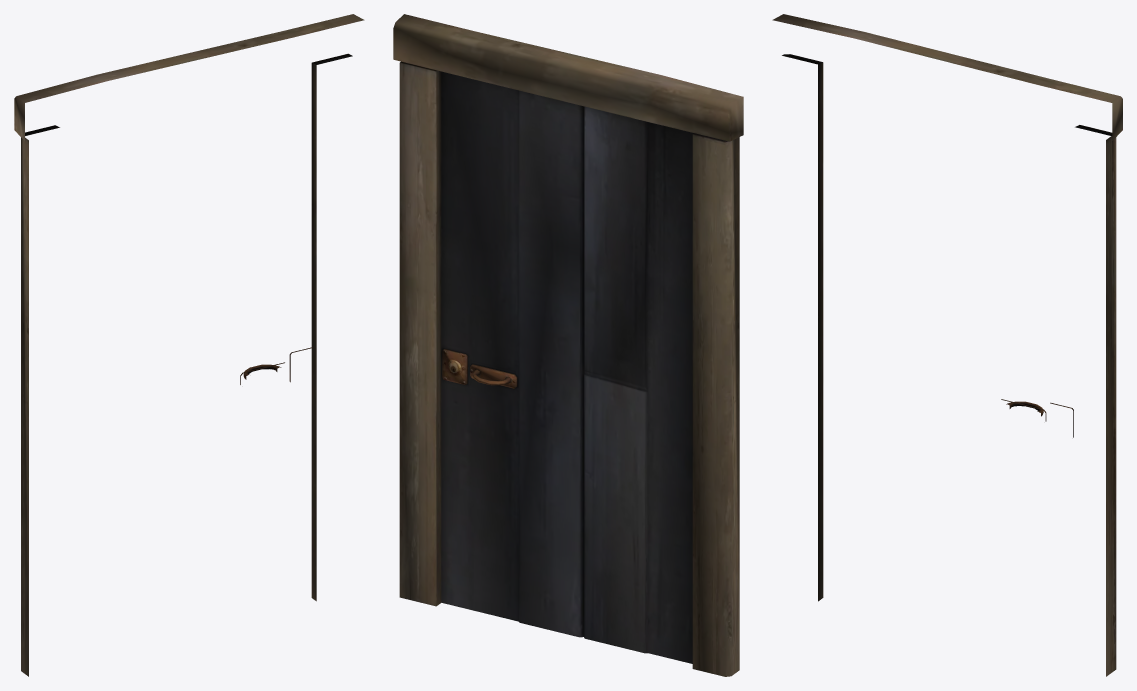
3 views of the same model, side by side, from view 1: azimuth 30°, elevation 25°; view 2: azimuth 150°, elevation 25°; view 3: azimuth 330°, elevation 25° (orthographic).
Parts seen in each view (by area): view 1: body0_model0_lod0_mesh0; view 2: body0_model0_lod0_mesh0; view 3: body0_model0_lod0_mesh0.
Boxes of the visible parts, box(x1,y1,x2,y2) form: body0_model0_lod0_mesh0: box(14, 14, 364, 676); body0_model0_lod0_mesh0: box(393, 14, 743, 676); body0_model0_lod0_mesh0: box(772, 14, 1122, 676).
Size of the model in its own units: 74.22 by 120 by 5.45.
Materials: 1 (1 with a texture image).
